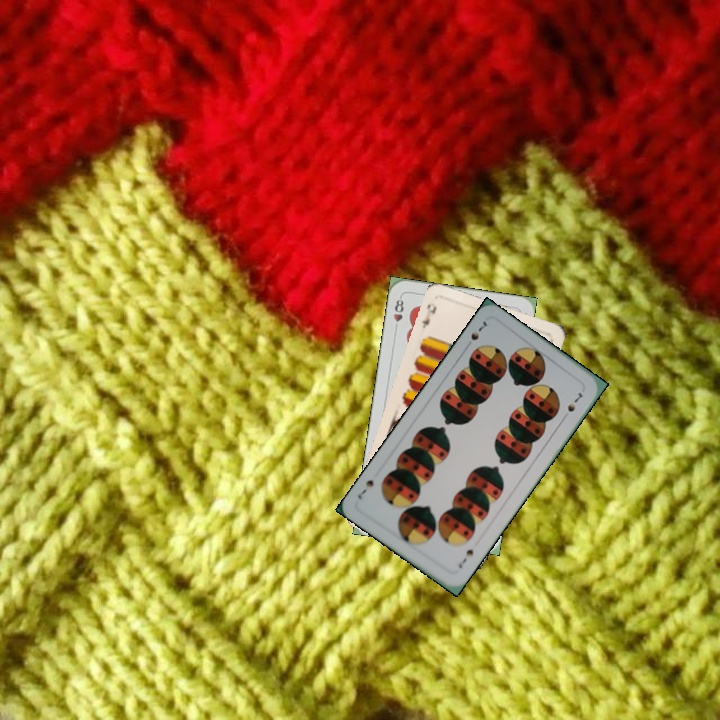E9: (417, 300, 439, 331)
H8: (389, 293, 406, 333)
S7: (461, 317, 489, 351), (454, 545, 476, 571)
